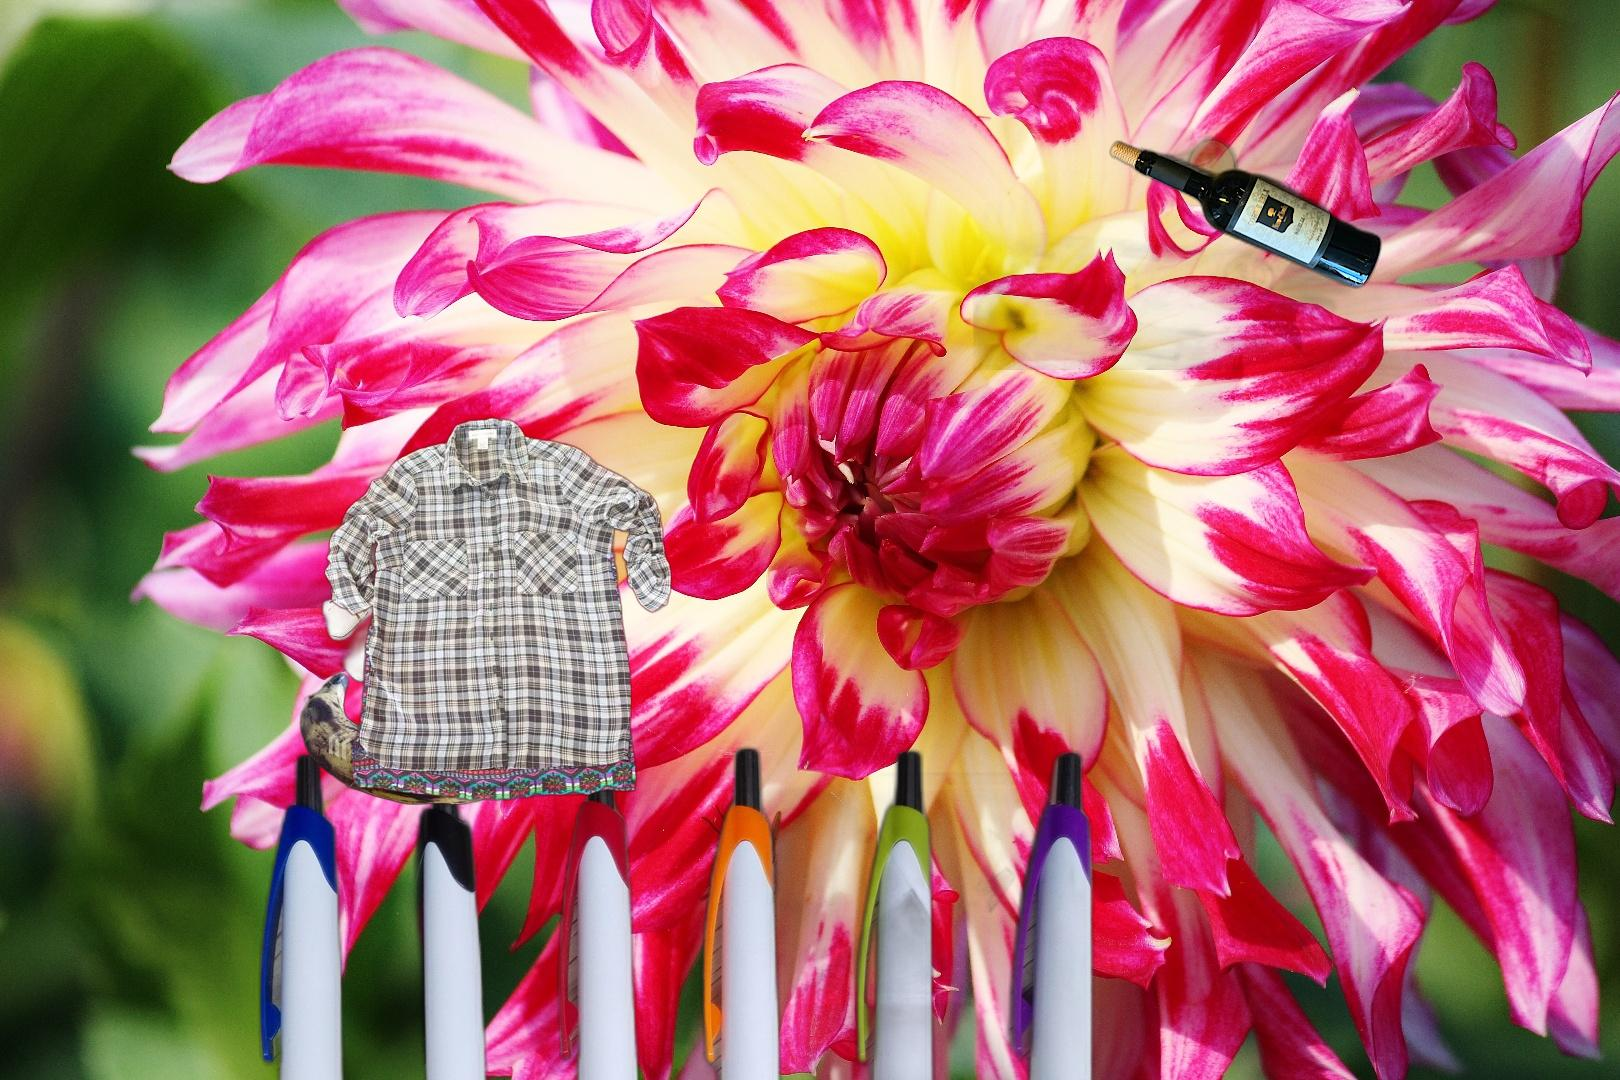biological: (297, 671, 510, 808)
clothes: (321, 413, 675, 805)
glass: (1107, 136, 1385, 293)
paper: (973, 92, 1485, 370)
penholder: (250, 739, 1107, 1080)
shoes: (318, 501, 475, 708)
trashbox-cardboard: (573, 771, 1085, 1080)
